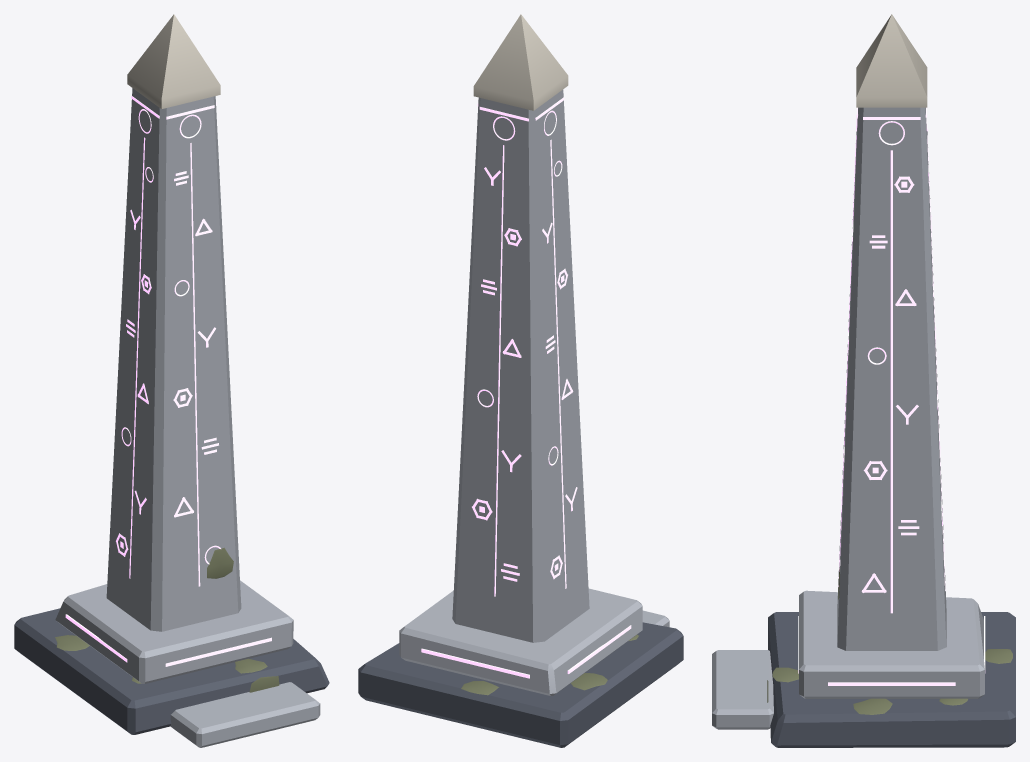
The model's file is deco_obelisk.fbx.
3 views of the same model, side by side, from view 1: azimuth 30°, elevation 25°; view 2: azimuth 150°, elevation 25°; view 3: azimuth 270°, elevation 25° (orthographic). The views are drawn at different scales.
Parts seen in each view (by area): view 1: Obelisk_Shaft, Obelisk_Base, Obelisk_Glyphs; view 2: Obelisk_Shaft, Obelisk_Base, Obelisk_Glyphs; view 3: Obelisk_Shaft, Obelisk_Base, Obelisk_Glyphs.
Boxes of the visible parts, bbox=[...] form: Obelisk_Shaft: bbox=[106, 14, 241, 631]; Obelisk_Base: bbox=[14, 580, 329, 747]; Obelisk_Glyphs: bbox=[116, 96, 220, 586]; Obelisk_Shaft: bbox=[452, 14, 589, 642]; Obelisk_Base: bbox=[358, 588, 683, 747]; Obelisk_Glyphs: bbox=[472, 97, 577, 596]; Obelisk_Shaft: bbox=[837, 14, 946, 650]; Obelisk_Base: bbox=[712, 590, 1015, 747]; Obelisk_Glyphs: bbox=[838, 107, 945, 613].
Bounding box in the file's own units: 202 × 610 × 245.
